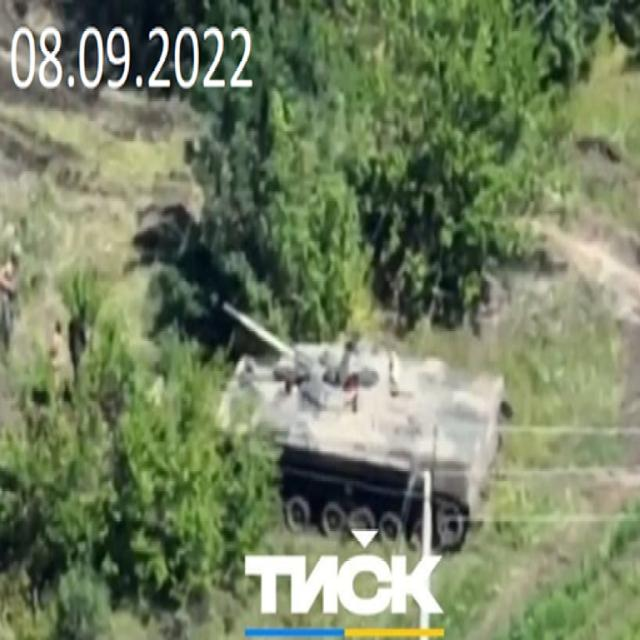APC-IFV: (210, 267, 506, 560)
